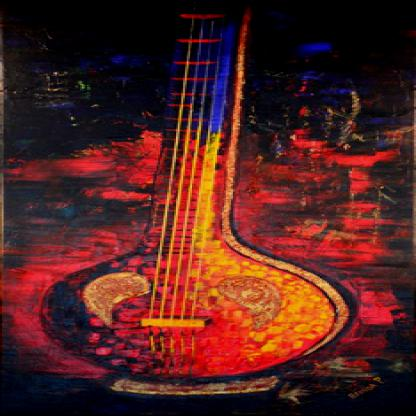Veena: (72, 39, 283, 398)
